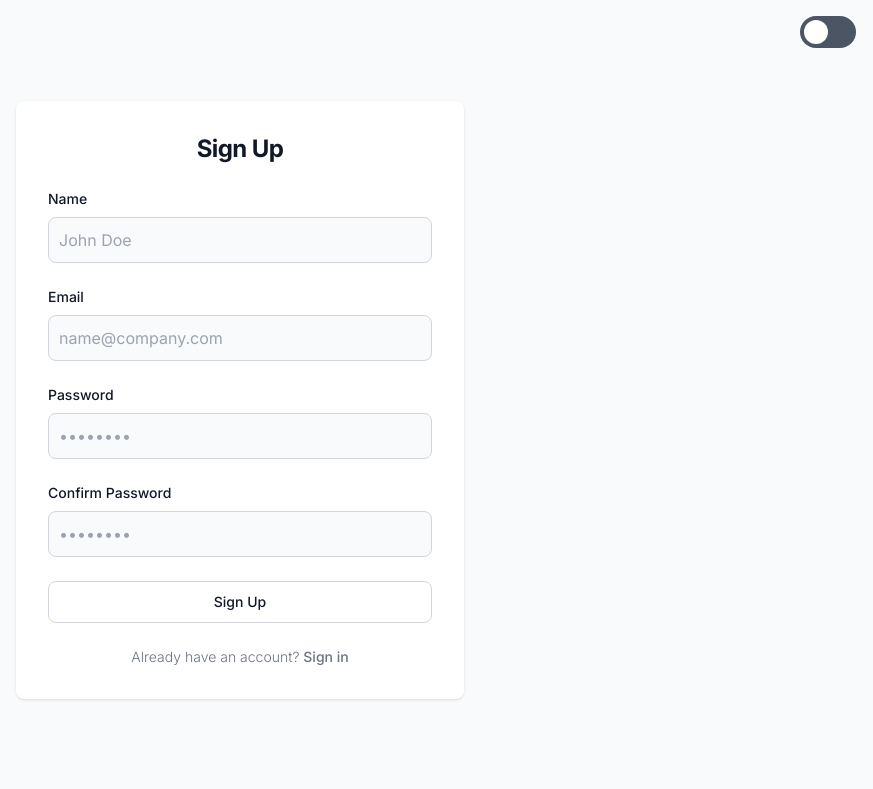
Sign Up › should show error for invalid email
The image size is (873, 789).
Type "Nikhil Magar" into the field named "name".
click(240, 240); type("Nikhil Magar")  # box [48,217,432,263]
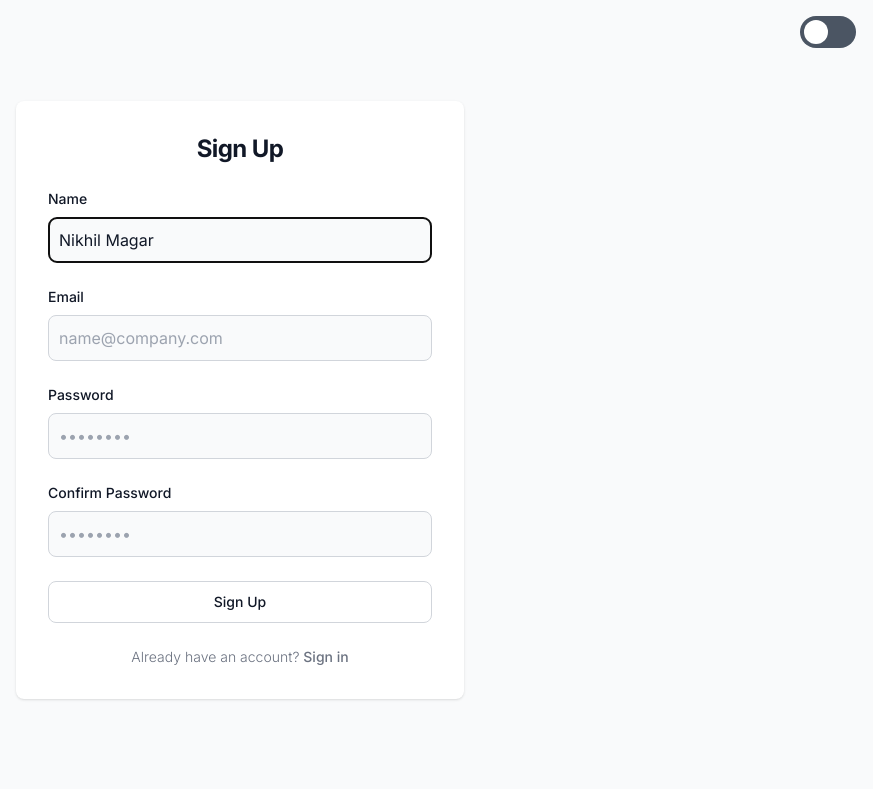
Type "invalid-email" into the field named "email".
click(240, 338); type("invalid-email")  # box [48,315,432,361]
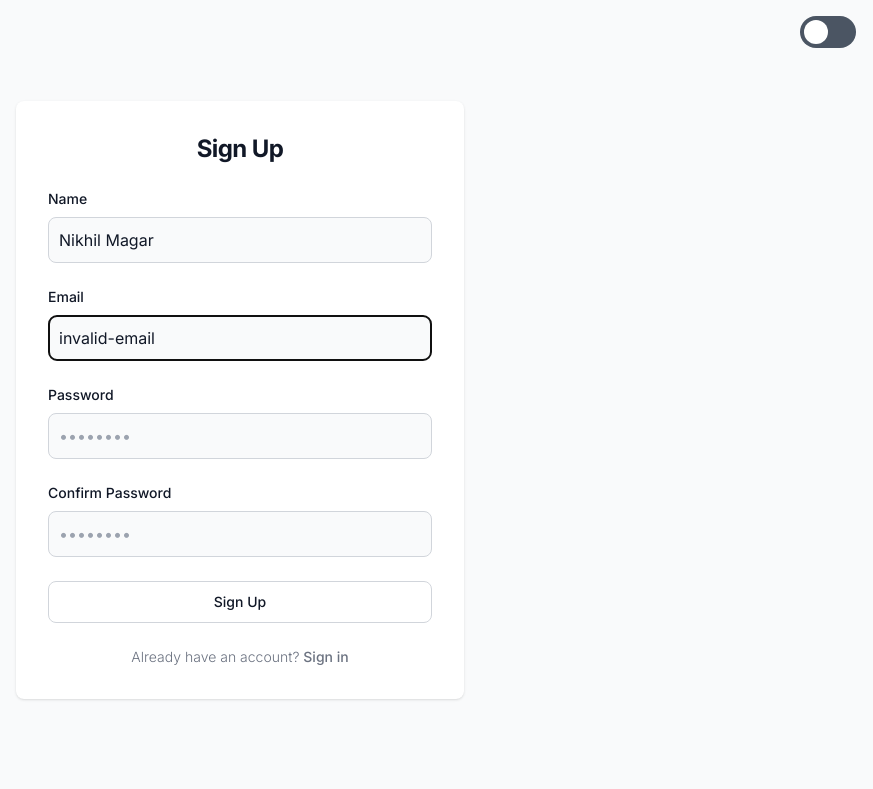
Type "Password123" into the password field named "password".
click(240, 436); type("Password123")  # box [48,413,432,459]
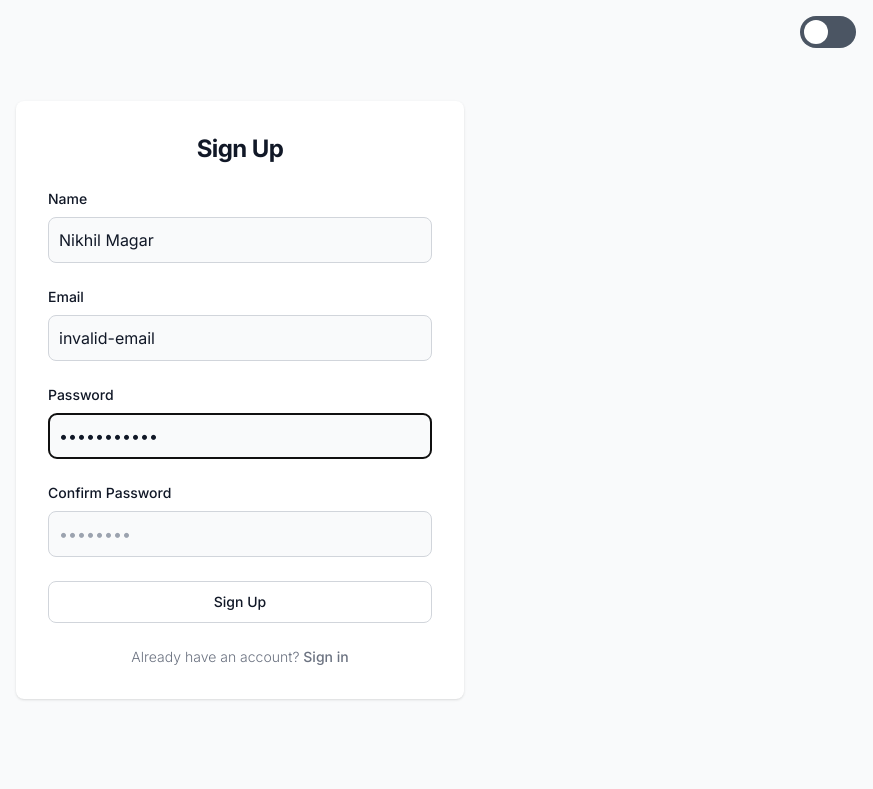
Type "Password123" into the password field named "confirm-password".
click(240, 534); type("Password123")  # box [48,511,432,557]
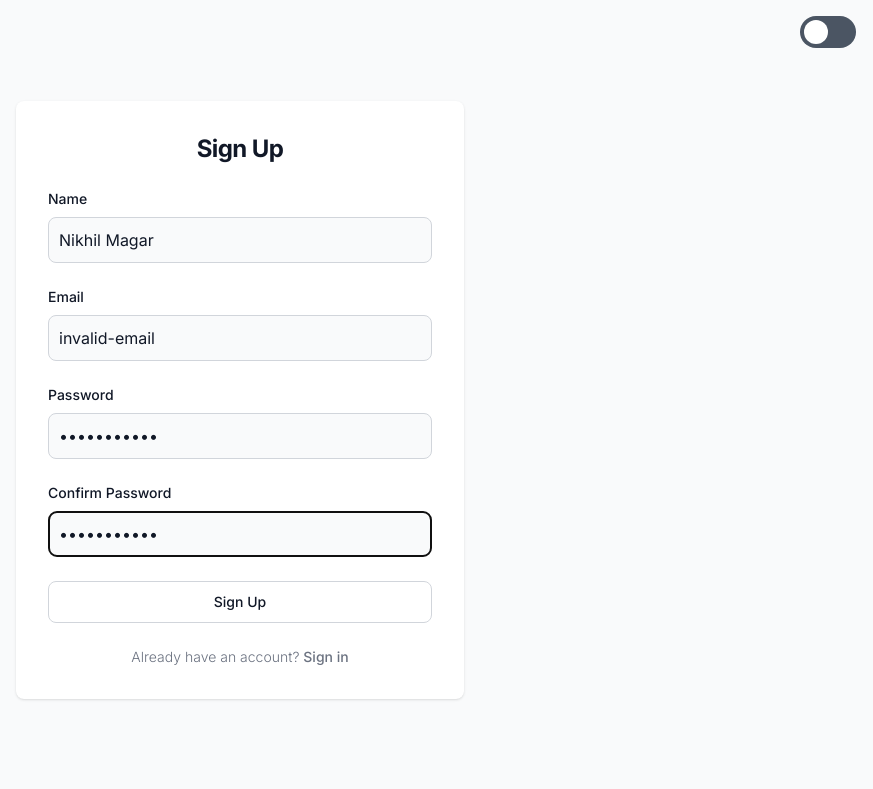
Click the submit button.
click(240, 602)  # box [48,581,432,623]
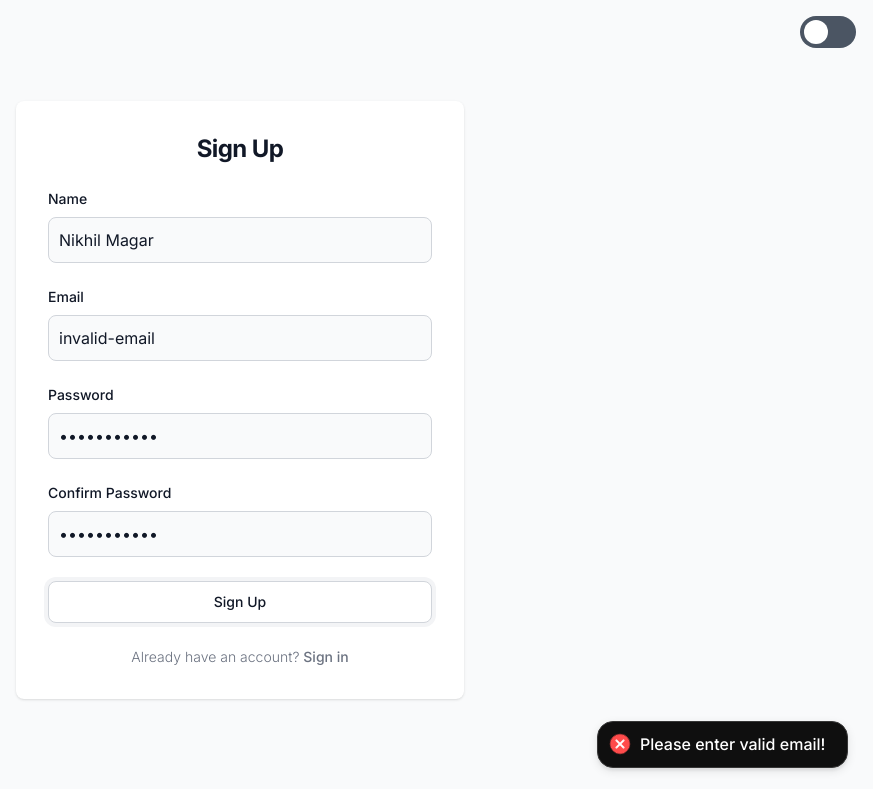
Now the text "Please enter valid email!" is shown, box [640,734,825,755]
